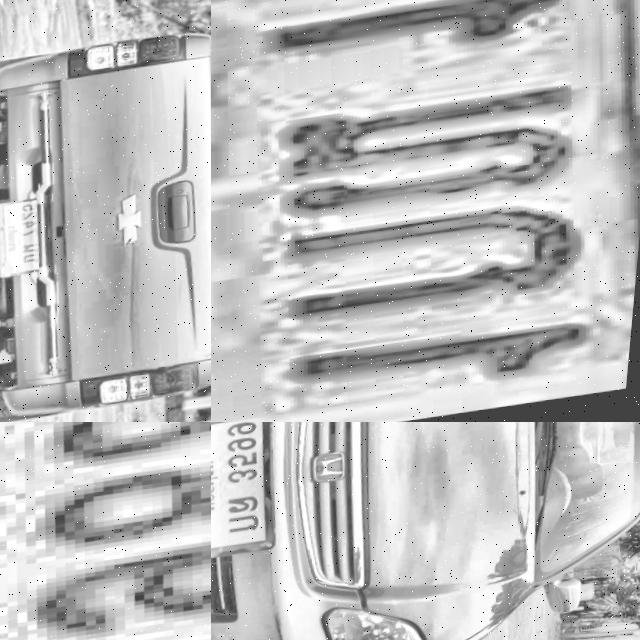license-plate: (211, 0, 640, 422), (0, 422, 211, 640), (211, 422, 293, 558), (0, 192, 58, 280)
